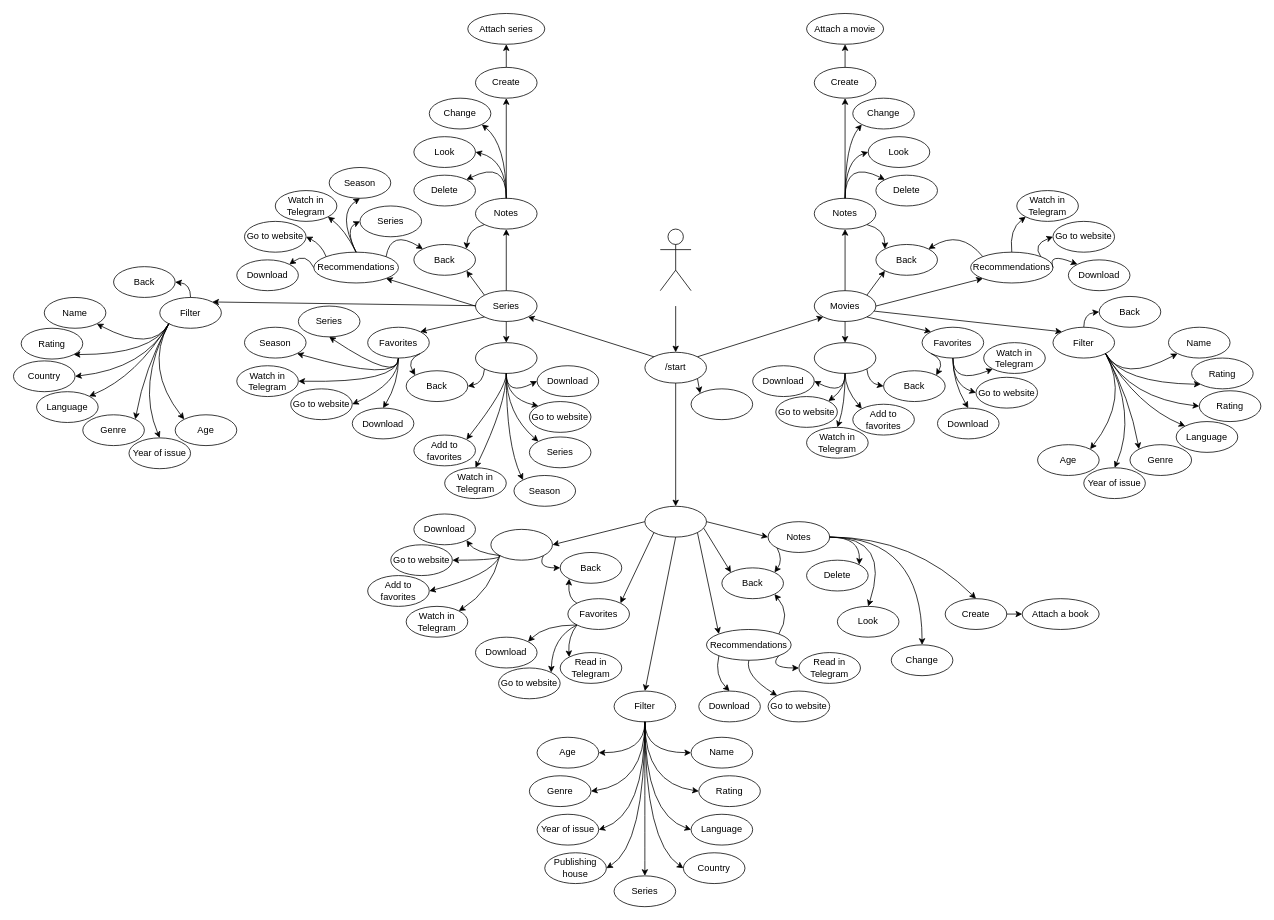
This 1274x920 diagram has some shape labels left out. Each missing label, with the centre of its shape:
/help: (x=721, y=404)
Books: (x=675, y=521)
List of books: (x=521, y=544)
List of films: (x=845, y=357)
List of TV series: (x=506, y=357)
User: (x=675, y=259)
